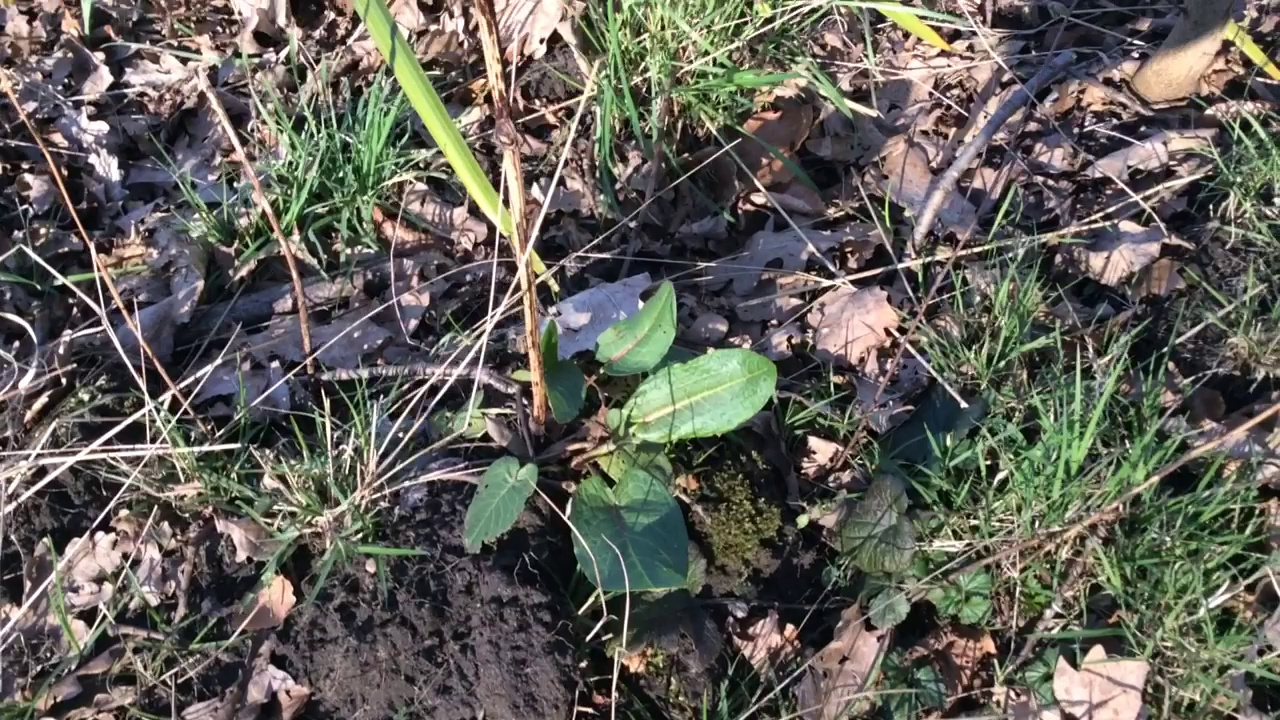rumex: (467, 282, 777, 594)
